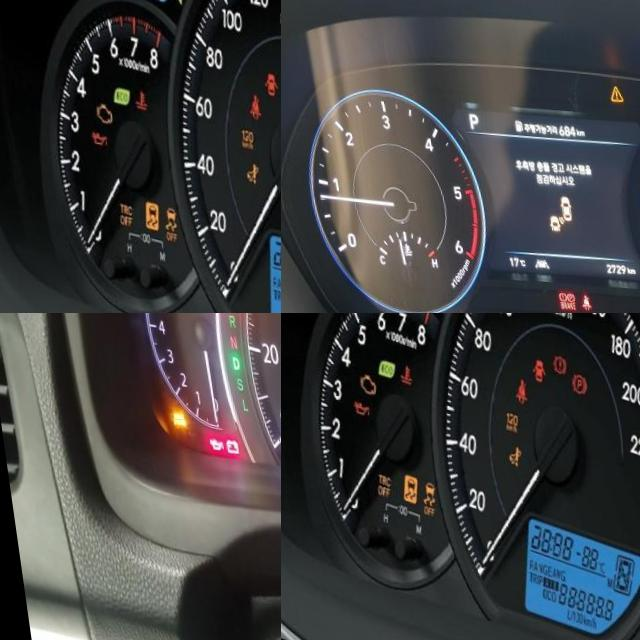Central Warning lamp: (603, 78, 618, 94)
High Engine Coolant Temperature: (125, 86, 140, 109), (391, 362, 404, 381)
LaneCenteringOff: (522, 252, 538, 263)
Seat Belt: (504, 372, 521, 400), (238, 88, 254, 114)
